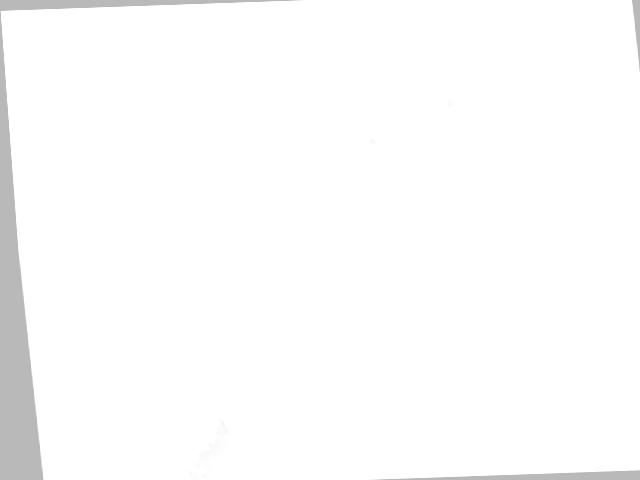hedef: (98, 298, 168, 350), (183, 252, 236, 276)
